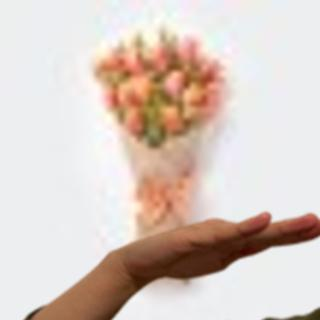WAIT: (117, 205, 320, 284)
